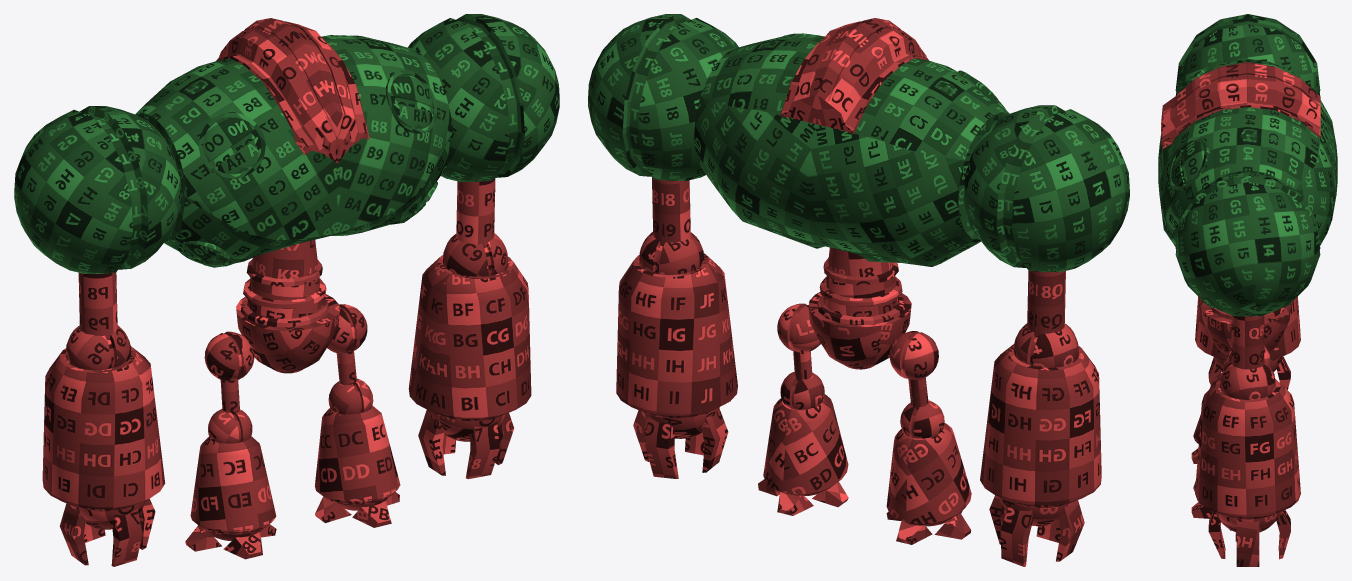
The model's file is Robot Body UV.fbx.
3 renders of one model, left to right at view 1: azimuth 30°, elevation 25°; view 2: azimuth 150°, elevation 25°; view 3: azimuth 270°, elevation 25°, orthographic. The views are drawn at different scales.
Visible parts, largest first — view 1: L_Shoulder (×2), Upper_Body (×2), L_Forearm (×2), L_Calf (×2), Head (×2), Lower_Body, L_Bicep (×2), L_Elbow (×2), Screw (×2), Pelvis, L_Hip (×2), HandClaw_Front (×2) (+6 smaller); view 2: Upper_Body (×2), L_Shoulder (×2), L_Forearm (×2), L_Calf (×2), Head (×2), Lower_Body, L_Bicep (×2), L_Elbow (×2), Pelvis, L_Hip (×2), HandClaw_Back (×2), L_Knee (×2) (+3 smaller); view 3: L_Shoulder (×2), L_Forearm (×2), Upper_Body (×2), Head, L_Bicep, Pelvis, L_Elbow, HandClaw_L, Screw, HandClaw_Back (×2), Ring, L_Wrist (+3 smaller).
Part boxes in pixels (<box>): L_Shoulder (×2): <box>14,14,559,273</box>; Upper_Body (×2): <box>135,35,452,267</box>; L_Forearm (×2): <box>42,255,531,511</box>; L_Calf (×2): <box>190,405,400,534</box>; Head (×2): <box>216,18,369,163</box>; Lower_Body: <box>240,240,328,327</box>; L_Bicep (×2): <box>78,178,495,339</box>; L_Elbow (×2): <box>66,233,507,370</box>; Screw (×2): <box>203,74,433,174</box>; Pelvis: <box>236,294,339,373</box>; L_Hip (×2): <box>204,304,367,380</box>; HandClaw_Front (×2): <box>111,422,499,566</box>; Upper_Body (×2): <box>694,35,1009,266</box>; L_Shoulder (×2): <box>588,14,1129,272</box>; L_Forearm (×2): <box>616,253,1101,508</box>; L_Calf (×2): <box>763,394,971,525</box>; Head (×2): <box>780,18,928,133</box>; Lower_Body: <box>817,247,904,325</box>; L_Bicep (×2): <box>652,177,1065,337</box>; L_Elbow (×2): <box>639,232,1078,367</box>; Pelvis: <box>808,292,911,369</box>; L_Hip (×2): <box>777,303,938,379</box>; HandClaw_Back (×2): <box>645,417,1033,566</box>; L_Knee (×2): <box>780,371,944,438</box>; L_Shoulder (×2): <box>1175,14,1320,316</box>; L_Forearm (×2): <box>1195,296,1300,519</box>; Upper_Body (×2): <box>1158,59,1337,246</box>; Head: <box>1161,63,1320,150</box>; L_Bicep: <box>1231,315,1264,369</box>; Pelvis: <box>1201,301,1290,355</box>; L_Elbow: <box>1220,361,1275,399</box>; HandClaw_L: <box>1236,520,1259,566</box>; Screw: <box>1171,141,1204,186</box>; HandClaw_Back (×2): <box>1276,356,1290,559</box>; Ring: <box>1167,136,1209,190</box>; L_Wrist: <box>1215,512,1279,532</box>.
Size of the model in its own units: 4.36 by 3.94 by 1.5.
2 materials, 2 textured.
